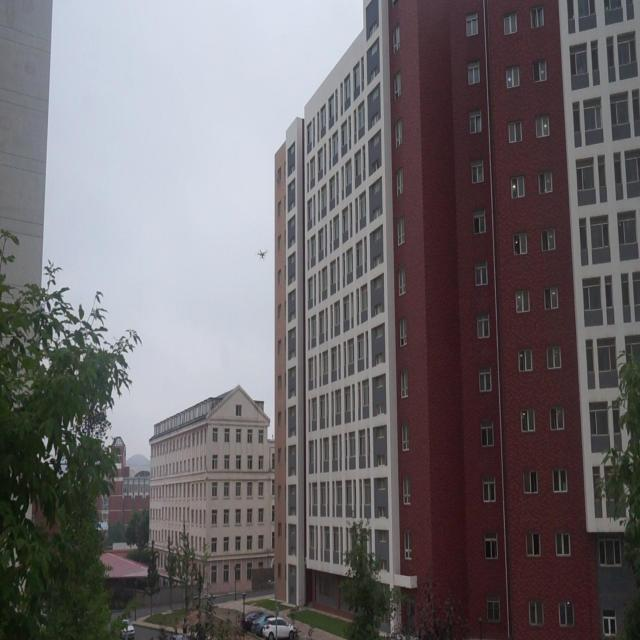UAV: (256, 249, 270, 261)
